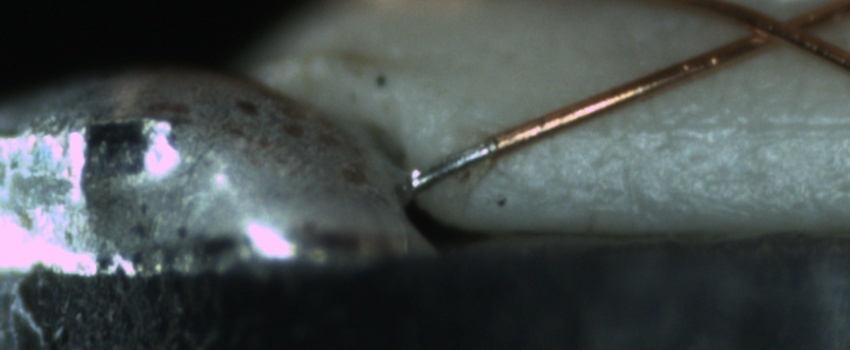CL: (731, 2, 829, 55)
DL: (634, 98, 849, 156)
TS: (407, 140, 499, 192)
